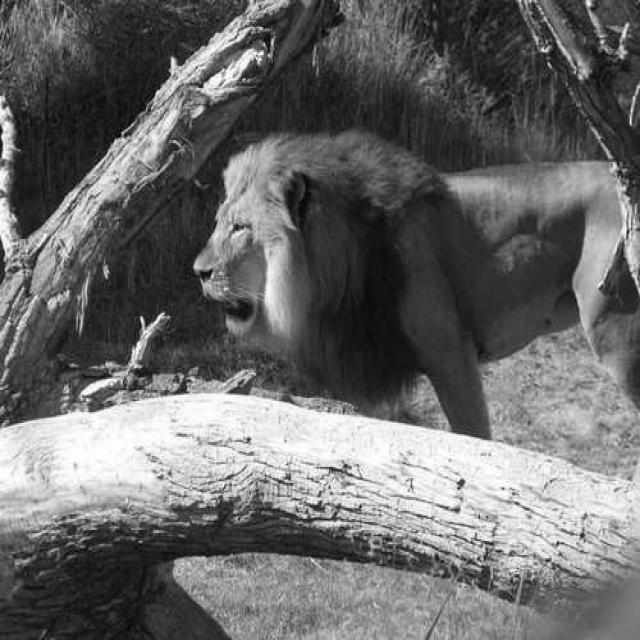Lion: (161, 127, 573, 427)
